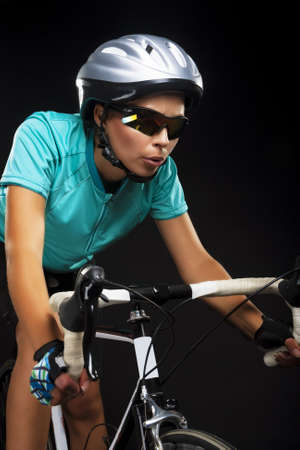helmet: (75, 34, 204, 181)
